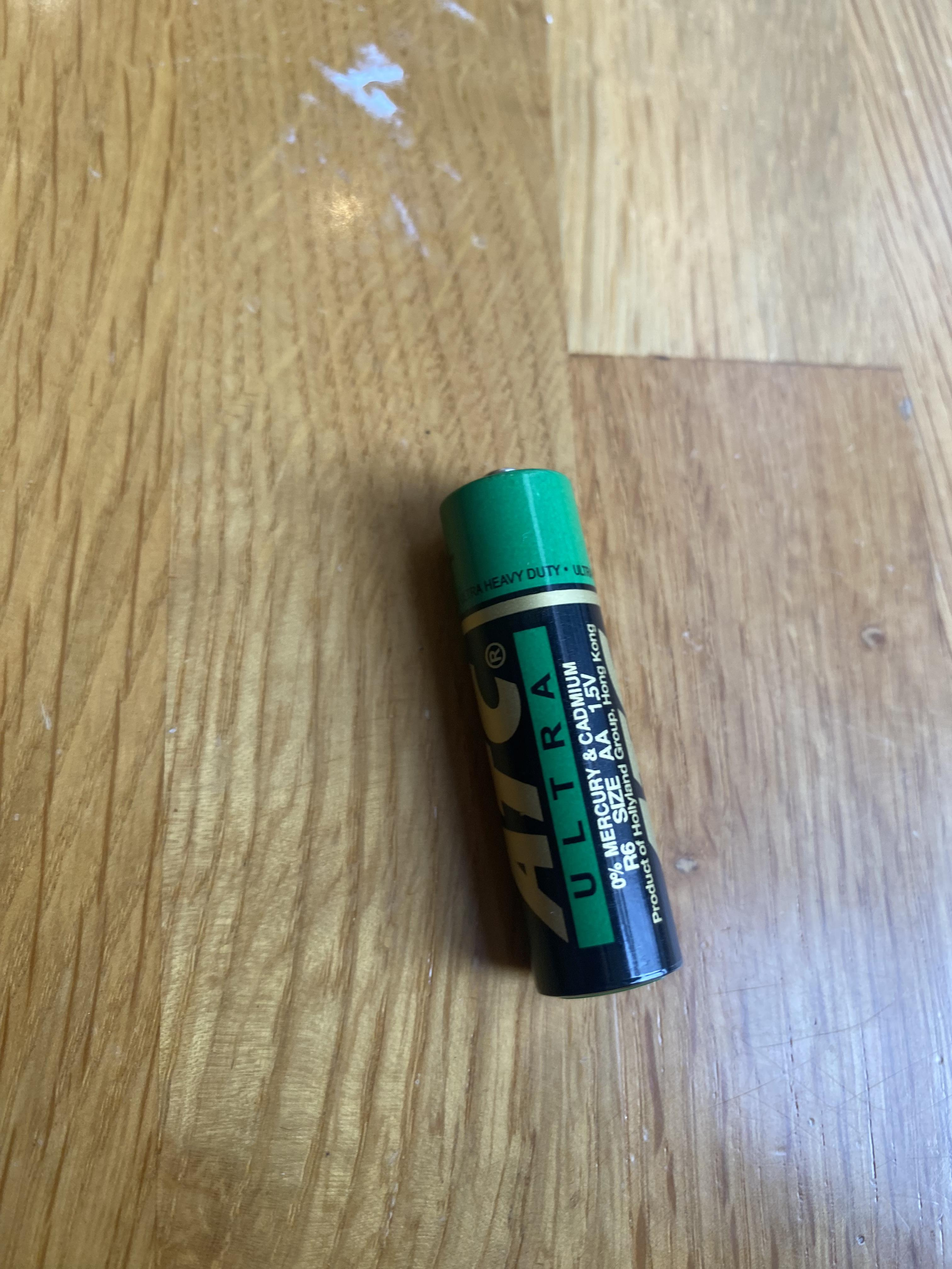AA: (437, 465, 685, 999)
